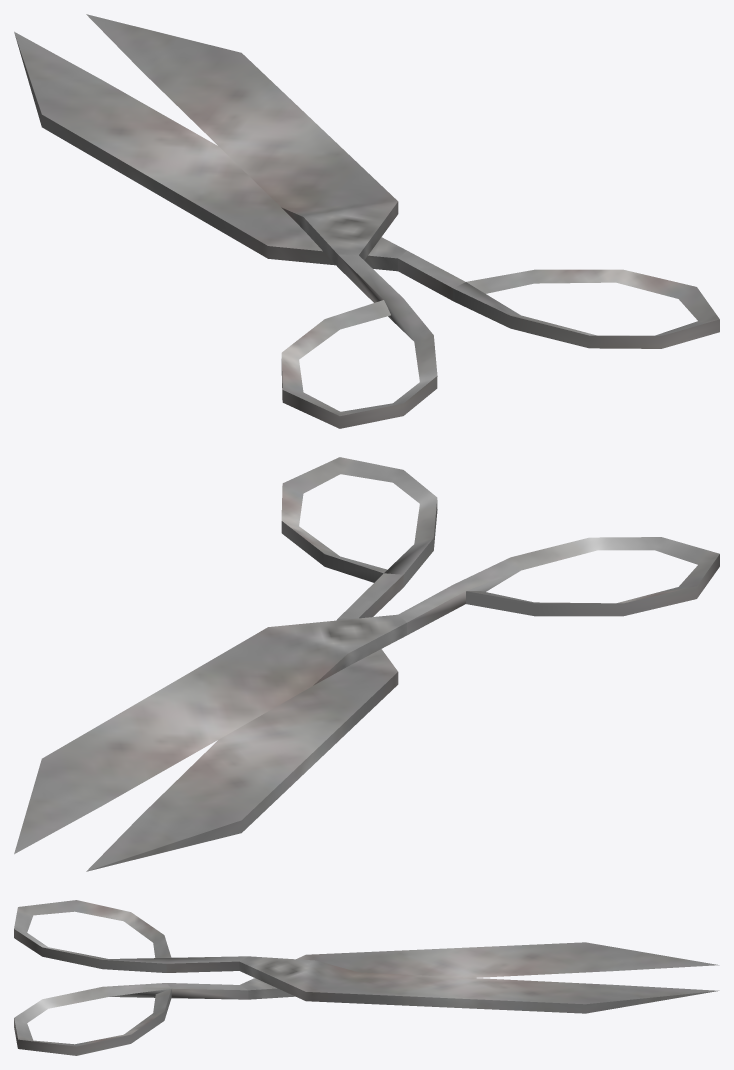
The model's file is shop_tailor_scissors.fbx.
3 renders of one model, top to bottom at view 1: azimuth 30°, elevation 25°; view 2: azimuth 150°, elevation 25°; view 3: azimuth 270°, elevation 25°, orthographic. The views are drawn at different scales.
Visible parts, largest first — view 1: scissors_part2, scissors_part1; view 2: scissors_part2, scissors_part1; view 3: scissors_part2, scissors_part1.
Part boxes in pixels (x1,y1,x2,y2): scissors_part2: (86, 14, 437, 428); scissors_part1: (14, 31, 719, 348); scissors_part2: (14, 537, 719, 854); scissors_part1: (86, 457, 437, 871); scissors_part2: (14, 900, 719, 1013); scissors_part1: (14, 942, 719, 1055).
Size of the model in its own units: 35.09 by 2.1 by 70.82.
1 material, 1 textured.
